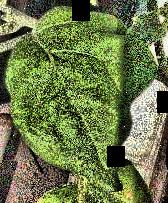HEALTHY: (0, 1, 168, 203)
